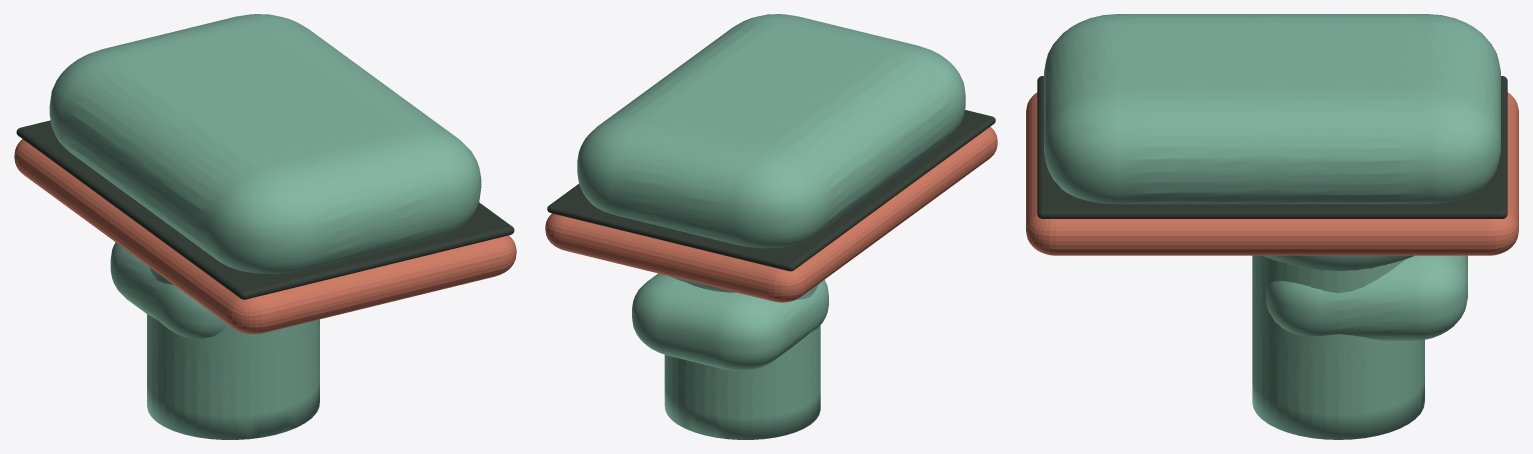
The model's file is brute-leg-0.glb.
3 views of the same model, side by side, from view 1: azimuth 30°, elevation 25°; view 2: azimuth 150°, elevation 25°; view 3: azimuth 270°, elevation 25° (orthographic). The views are drawn at different scales.
Visible parts, largest first — view 1: foot_clay, foot_hardware (×2), upper_clay, lower_clay; view 2: foot_clay, foot_hardware (×2), lower_clay, upper_clay; view 3: foot_clay, foot_hardware (×2), upper_clay, lower_clay.
Part boxes in pixels (x1=…): foot_clay: x1=49, y1=14, x2=481, y2=273; foot_hardware (×2): x1=14, y1=120, x2=516, y2=334; upper_clay: x1=147, y1=267, x2=319, y2=439; lower_clay: x1=110, y1=242, x2=226, y2=338; foot_clay: x1=577, y1=14, x2=965, y2=248; foot_hardware (×2): x1=545, y1=110, x2=997, y2=302; lower_clay: x1=632, y1=273, x2=828, y2=370; upper_clay: x1=664, y1=276, x2=820, y2=439; foot_clay: x1=1044, y1=14, x2=1500, y2=204; foot_hardware (×2): x1=1026, y1=76, x2=1518, y2=255; upper_clay: x1=1252, y1=255, x2=1424, y2=439; lower_clay: x1=1266, y1=255, x2=1467, y2=340.
Bounding box in the file's own units: 0.5888 × 0.6583 × 0.8536.
